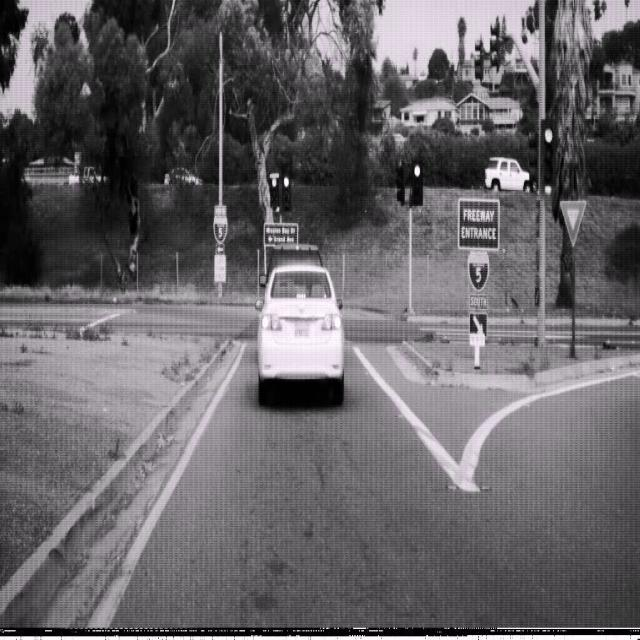yield: (559, 198, 587, 246)
